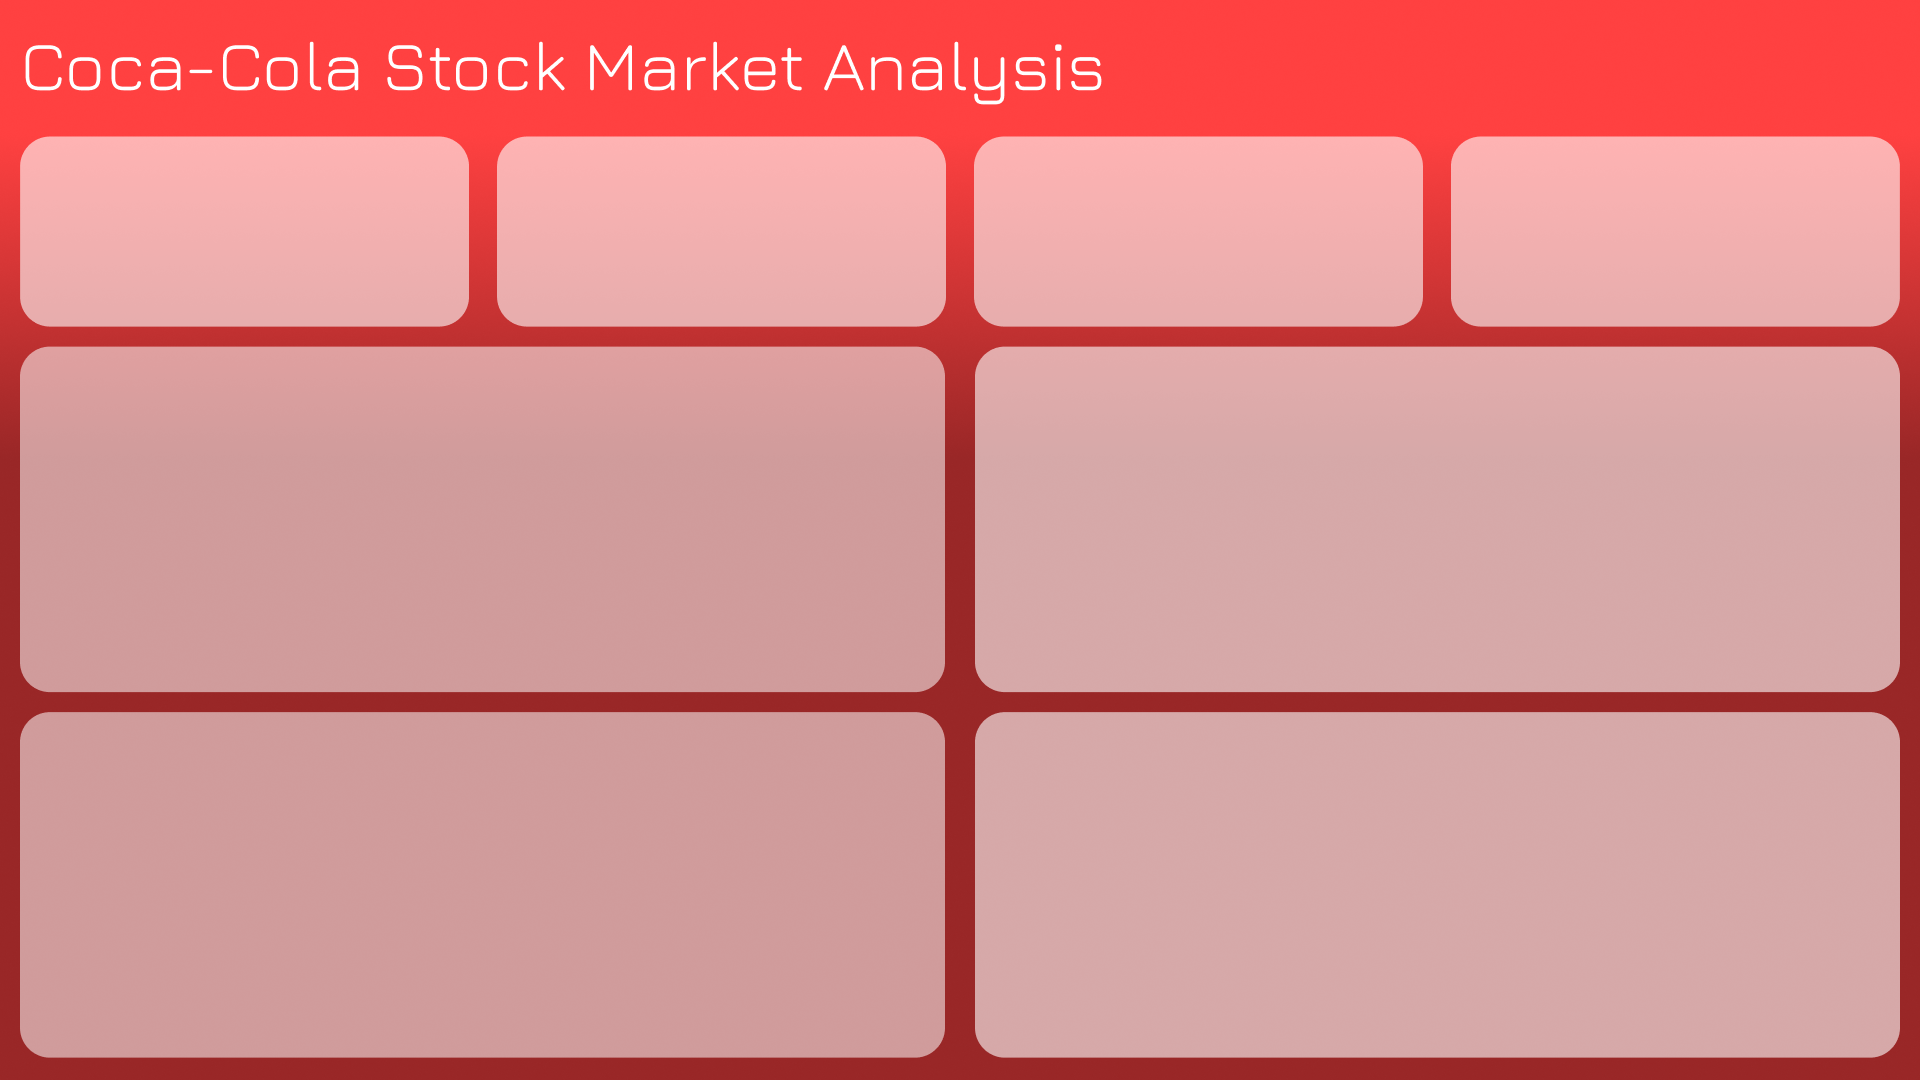

The page's visual inventory and layout, read from the dashboard file:
{"tool":"powerbi","page":{"name":"Dashboard","canvas":[1280,720],"ordinal":0},"visuals":[{"type":"kpi","title":"Current Close Price","fields":{"Indicator":["Sum(Coca Cola.Close)"],"TrendLine":["Coca Cola.Date"],"Goal":["Sum(Coca Cola.Open)"]},"box":[29,97.7,270.2,108.6],"z":0},{"type":"kpi","title":"Highest Price","fields":{"Indicator":["Sum(Coca Cola.High)"],"TrendLine":["Coca Cola.Date"]},"box":[348.7,97.7,272.7,108.6],"z":1000},{"type":"kpi","title":"Lowest Price","fields":{"Indicator":["Sum(Coca Cola.Low)"],"TrendLine":["Coca Cola.Date"]},"box":[662.3,97.7,273.9,108.6],"z":2000},{"type":"kpi","title":"Average Volume","fields":{"Indicator":["Avg(Coca Cola.Volume)"],"TrendLine":["Coca Cola.Date"]},"box":[971.2,97.7,285.9,108.6],"z":3000},{"type":"areaChart","title":"Closing Price Over Time","fields":{"Category":["Coca Cola.Date"],"Y":["Sum(Coca Cola.Close)"]},"box":[29,238.9,592.4,216],"z":4000},{"type":"lineChart","title":"Trading Volume Over Time","fields":{"Y":["Sum(Coca Cola.Volume)"],"Category":["Coca Cola.Date"]},"box":[662.3,238.9,586.3,216],"z":5000},{"type":"areaChart","title":"Closing Price vs. Trading Volume","fields":{"Category":["Coca Cola.Date.Variation.Hierarquia de datas.Ano","Coca Cola.Date.Variation.Hierarquia de datas.Trimestre","Coca Cola.Date.Variation.Hierarquia de datas.Mês","Coca Cola.Date.Variation.Hierarquia de datas.Dia"],"Y":["Sum(Coca Cola.Close)"],"Y2":["Sum(Coca Cola.Volume)"]},"box":[29,492.2,592.4,195.4],"z":6000},{"type":"lineChart","title":"Percentage Change","fields":{"Y":["Sum(Coca Cola.Percentage Change)"],"Category":["Coca Cola.Date"]},"box":[662.3,480.2,594.8,216],"z":7000},{"type":"slicer","fields":{"Values":["Coca Cola.Date"]},"box":[936.2,9.7,329.4,61.5],"z":8000}]}

Visuals, with their boxes in screenshot pixels (x1, y1, x2, y2), scaled from the page's 1280x720 canvas onto the 1920x1080 screenshot:
"Current Close Price" kpi: x1=44, y1=147, x2=449, y2=309
"Highest Price" kpi: x1=523, y1=147, x2=932, y2=309
"Lowest Price" kpi: x1=993, y1=147, x2=1404, y2=309
"Average Volume" kpi: x1=1457, y1=147, x2=1886, y2=309
"Closing Price Over Time" areaChart: x1=44, y1=358, x2=932, y2=682
"Trading Volume Over Time" lineChart: x1=993, y1=358, x2=1873, y2=682
"Closing Price vs. Trading Volume" areaChart: x1=44, y1=738, x2=932, y2=1031
"Percentage Change" lineChart: x1=993, y1=720, x2=1886, y2=1044
slicer - Coca Cola.Date: x1=1404, y1=15, x2=1898, y2=107
